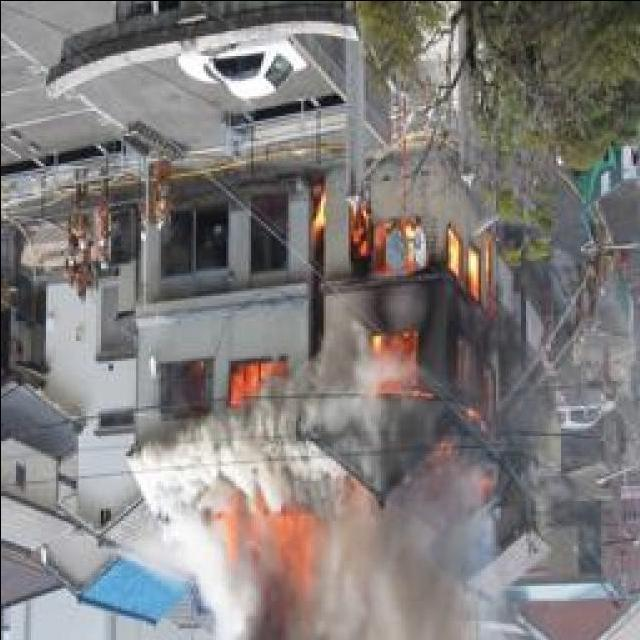Fire: (310, 188, 499, 488), (215, 493, 327, 596), (224, 348, 286, 415)
